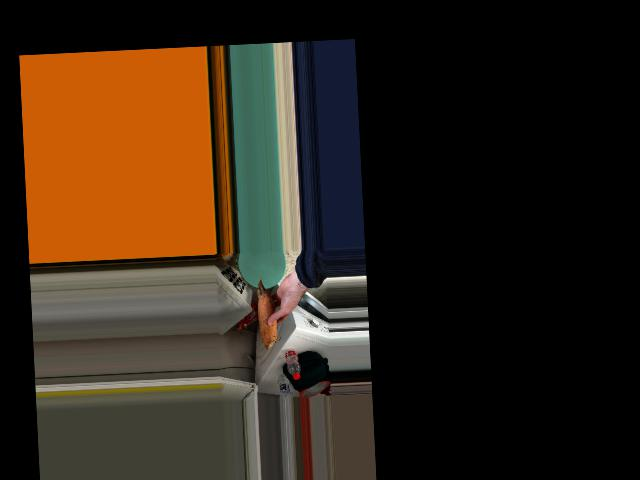sweet_potato: (255, 283, 280, 344)
